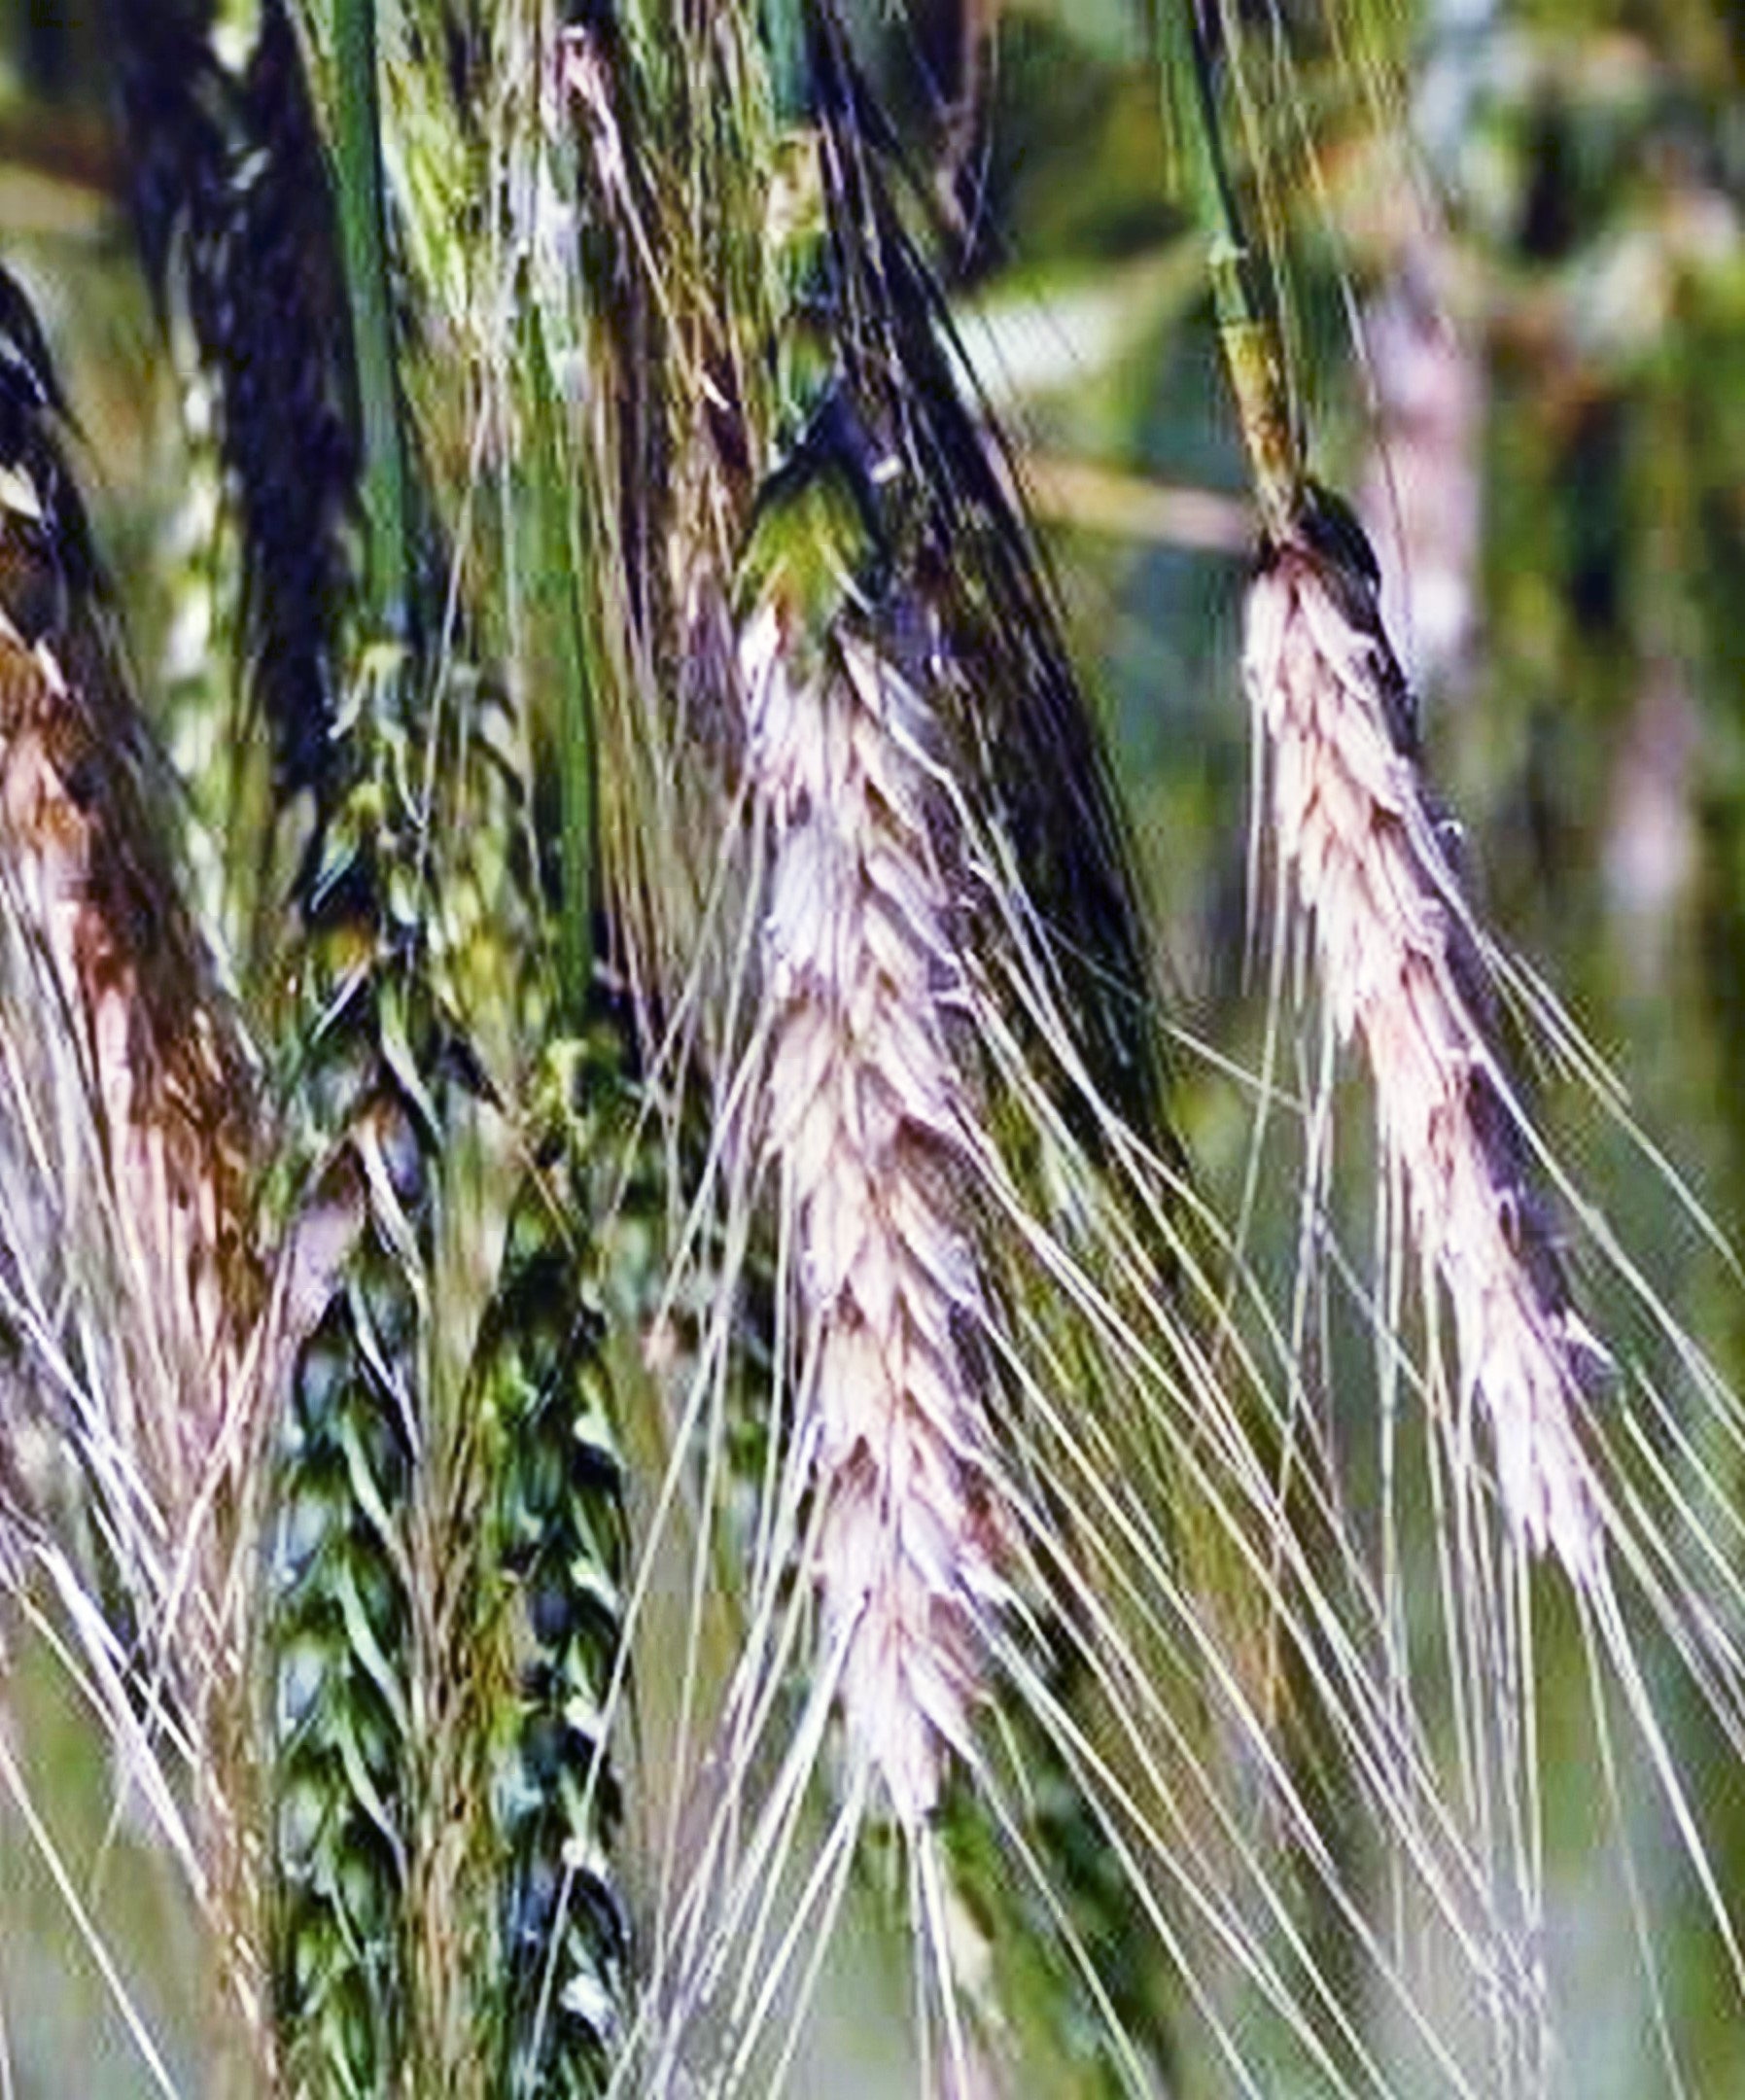Wheat scab: (1227, 453, 1674, 1617), (715, 464, 1060, 1824)
